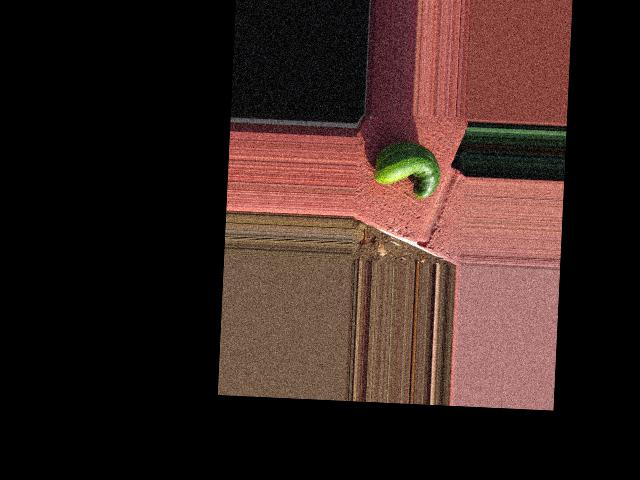cucumber: (373, 140, 441, 200)
